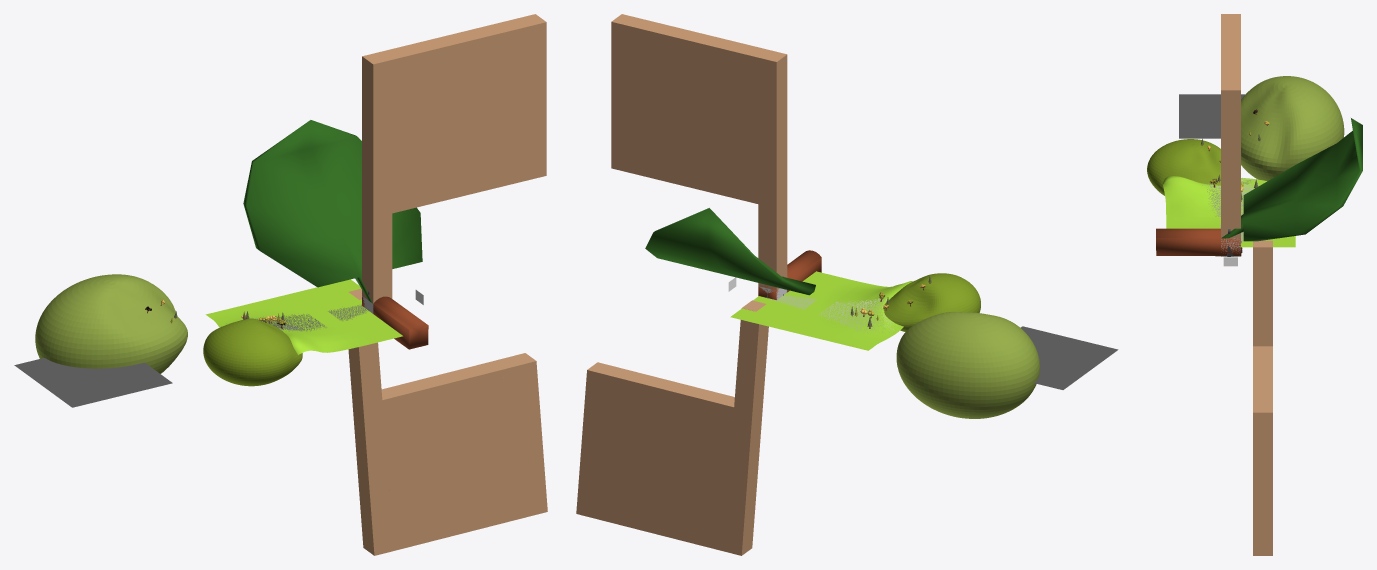
Rendered from Umgebung25.6.gltf.
3 views of the same model, side by side, from view 1: azimuth 30°, elevation 25°; view 2: azimuth 150°, elevation 25°; view 3: azimuth 270°, elevation 25° (orthographic). The views are drawn at different scales.
Visible parts, largest first — view 1: Rad-01, Rad-02, Cube, Sphere.001, Sphere, Mountain, Plane.001, Plane, Tuer, Plane.002; view 2: Rad-02, Rad-01, Sphere.001, Cube, Plane.001, Sphere, Mountain, Plane, Plane.002, Tuer; view 3: Sphere.001, Cube, Rad-02, Rad-01, Sphere, Plane.001, Tuer, Mountain, Plane, Plane.002.
Boxes of the visible parts, box(x1,y1,x2,y2) form: Rad-01: box(362, 14, 546, 303); Rad-02: box(348, 288, 547, 555); Cube: box(243, 120, 422, 303); Sphere.001: box(35, 274, 187, 373); Sphere: box(203, 318, 302, 386); Mountain: box(14, 358, 172, 407); Plane.001: box(205, 295, 354, 354); Plane: box(300, 279, 402, 343); Tuer: box(362, 296, 428, 349); Plane.002: box(284, 291, 371, 347); Rad-02: box(576, 300, 768, 555); Rad-01: box(611, 14, 787, 290); Sphere.001: box(896, 312, 1039, 418); Cube: box(645, 208, 815, 295); Plane.001: box(794, 281, 912, 350); Sphere: box(883, 273, 980, 331); Mountain: box(1020, 326, 1118, 389); Plane: box(730, 271, 845, 328); Plane.002: box(778, 278, 861, 332); Tuer: box(758, 250, 821, 299); Sphere.001: box(1241, 76, 1344, 180); Cube: box(1221, 118, 1362, 256); Rad-02: box(1253, 240, 1272, 555); Rad-01: box(1221, 14, 1240, 238); Sphere: box(1147, 139, 1220, 195); Plane.001: box(1162, 176, 1266, 217); Tuer: box(1156, 228, 1241, 256); Mountain: box(1179, 94, 1245, 138); Plane: box(1166, 225, 1295, 247); Plane.002: box(1166, 216, 1220, 224).
Size of the model in its own units: 53.64 by 50.54 by 21.54.
Materials: 17 (8 with a texture image).
